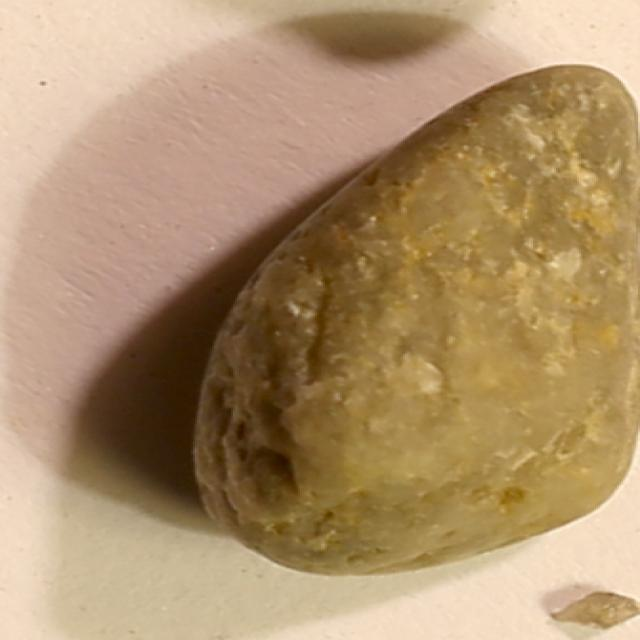stone: (192, 56, 640, 584)
